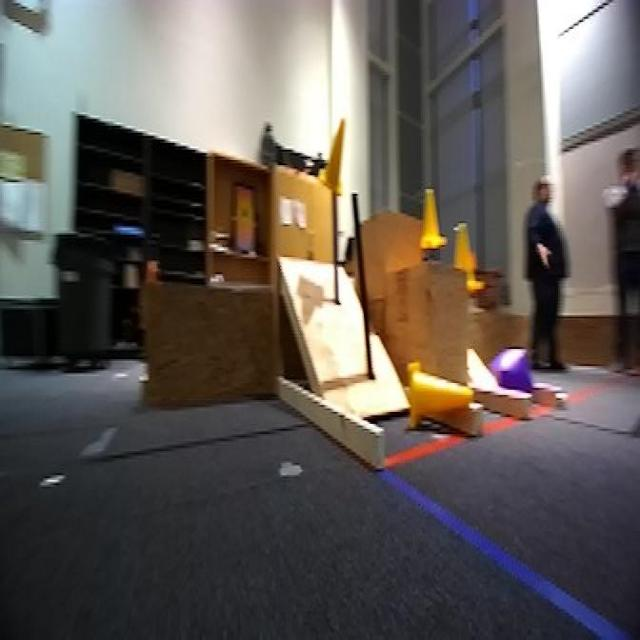frc_cone: (404, 354, 476, 443), (319, 117, 354, 194), (452, 222, 486, 290), (419, 189, 445, 252)
frc_cube: (490, 349, 530, 400)
